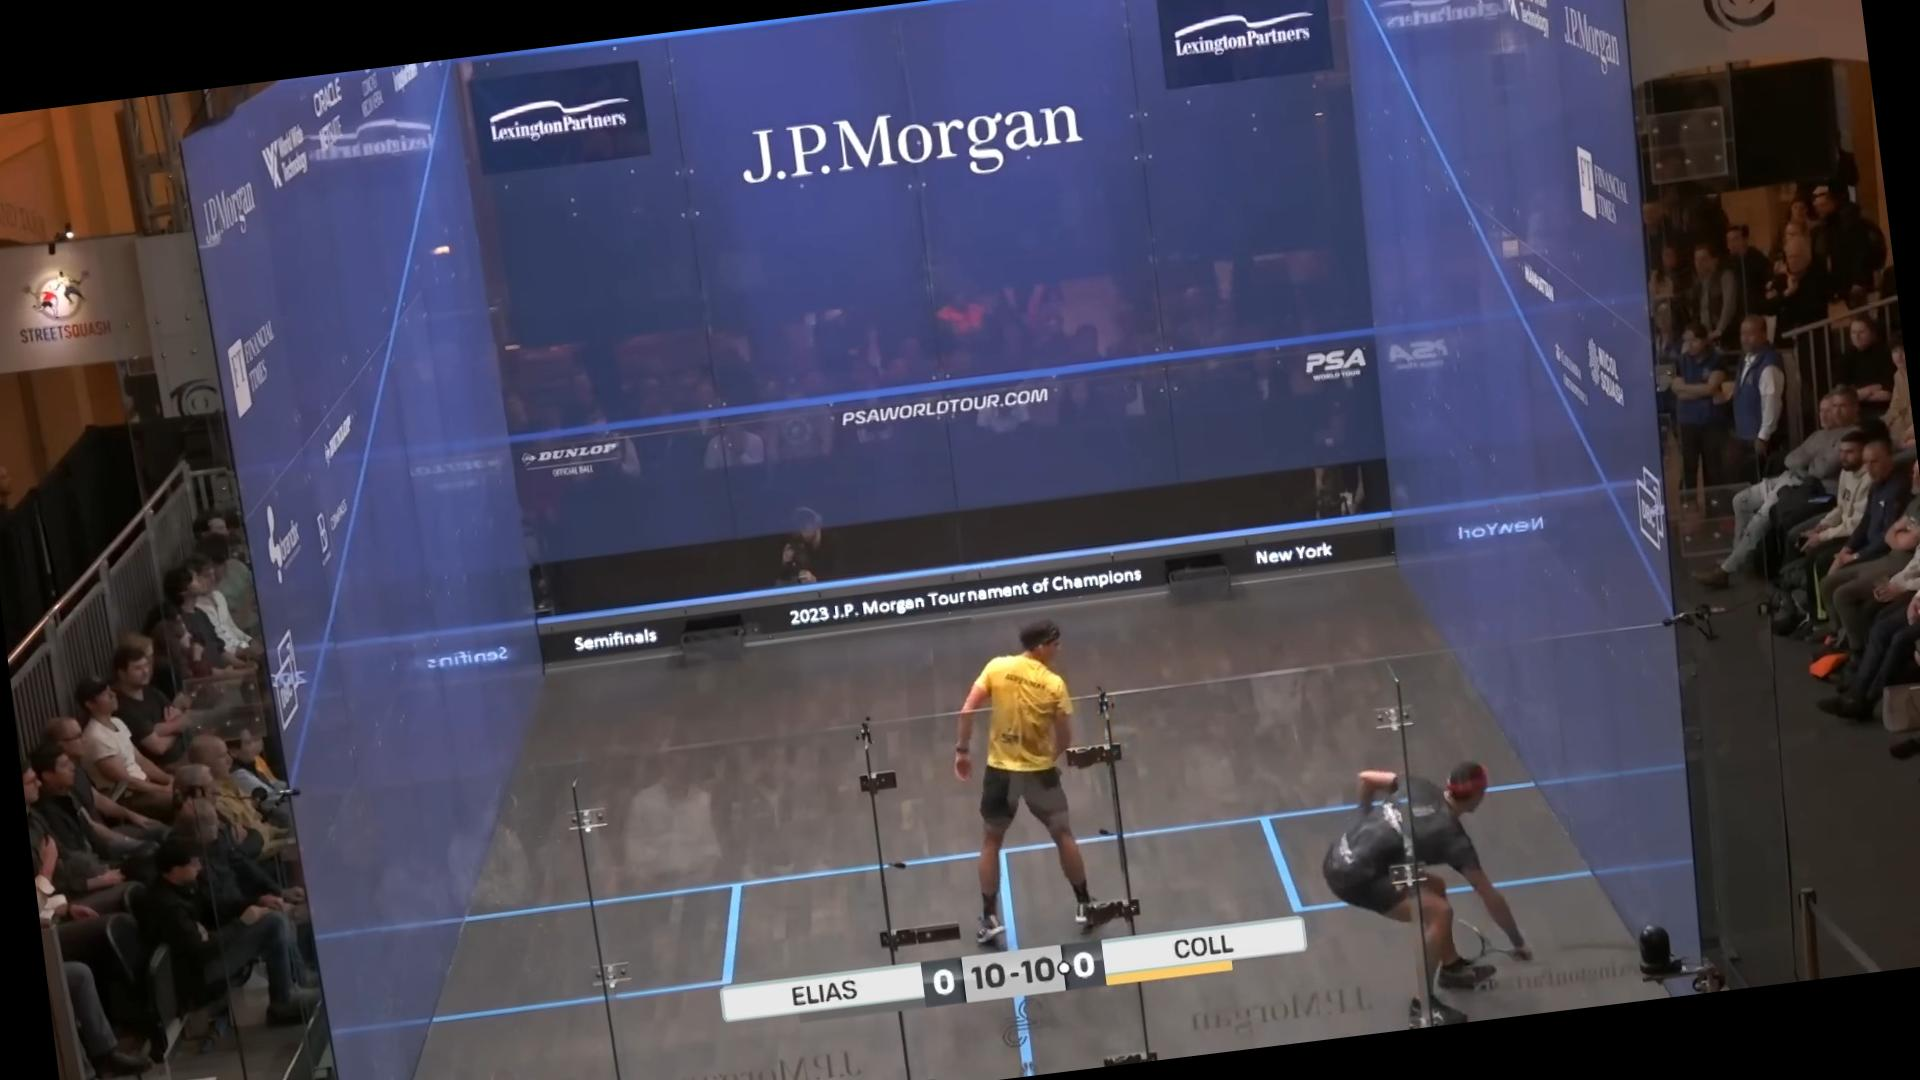Racket: (1432, 891, 1540, 978)
